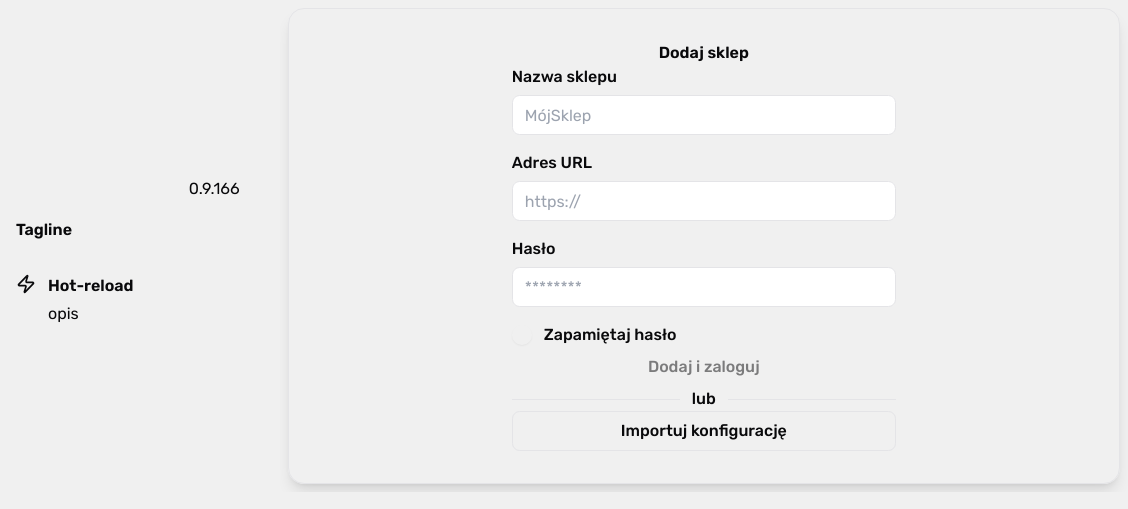
OnboardingScreen › keeps submit disabled until every field is filled
Expected: the button "Dodaj i zaloguj" is disabled, [512,347,896,387]
Type "MojSklep" into the field labelled "Nazwa sklepu".
click(704, 115); type("MojSklep")  # box [512,95,896,135]
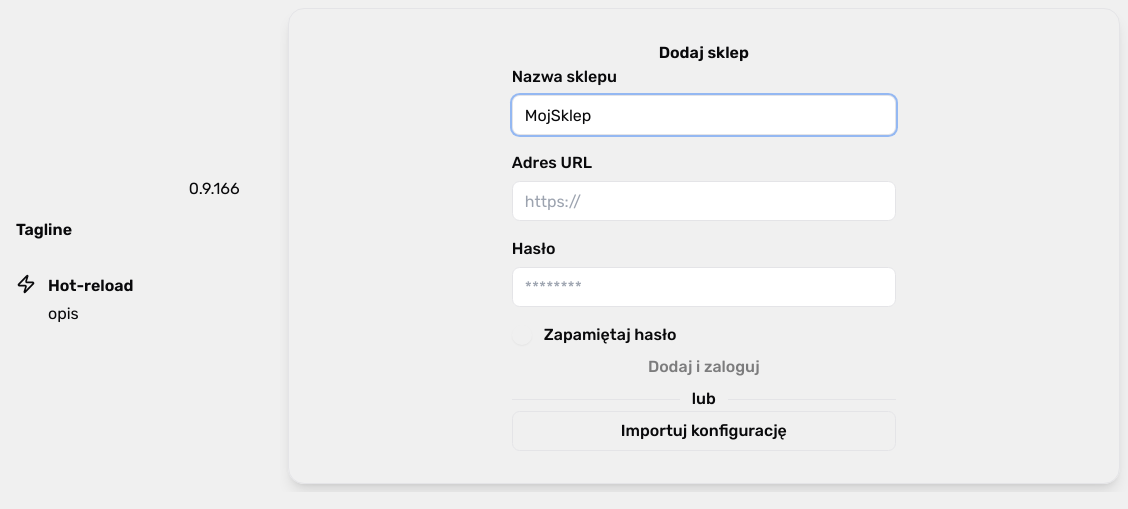
Type "https://sklep.example.com" into the field labelled "Adres URL".
click(704, 201); type("https://sklep.example.com")  # box [512,181,896,221]
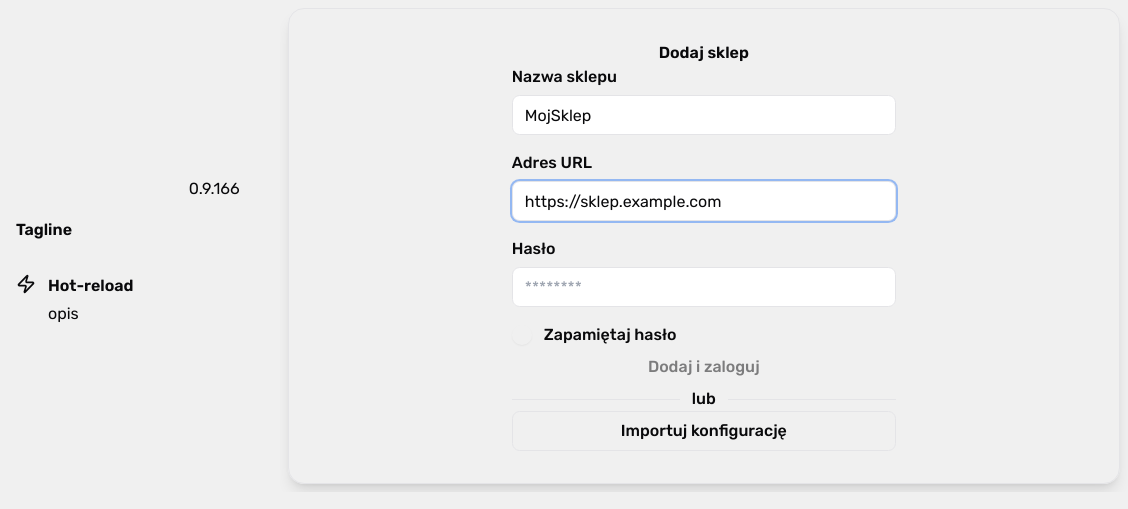
Expected: the button "Dodaj i zaloguj" is disabled, [512,347,896,387]
Type "secret" into the password field labelled "Hasło".
click(704, 287); type("secret")  # box [512,267,896,307]
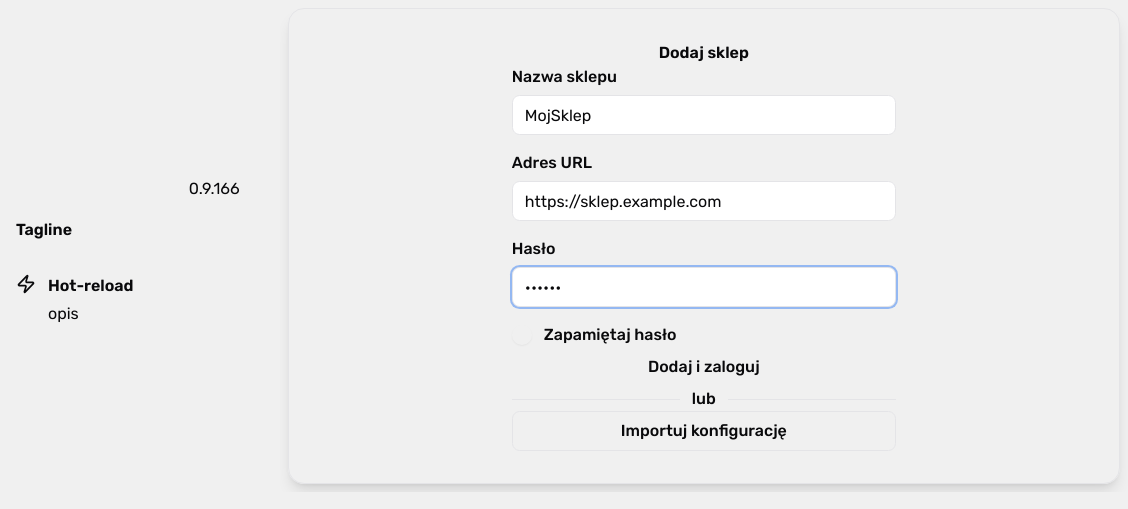
Expected: the button "Dodaj i zaloguj" is enabled, [512,347,896,387]
